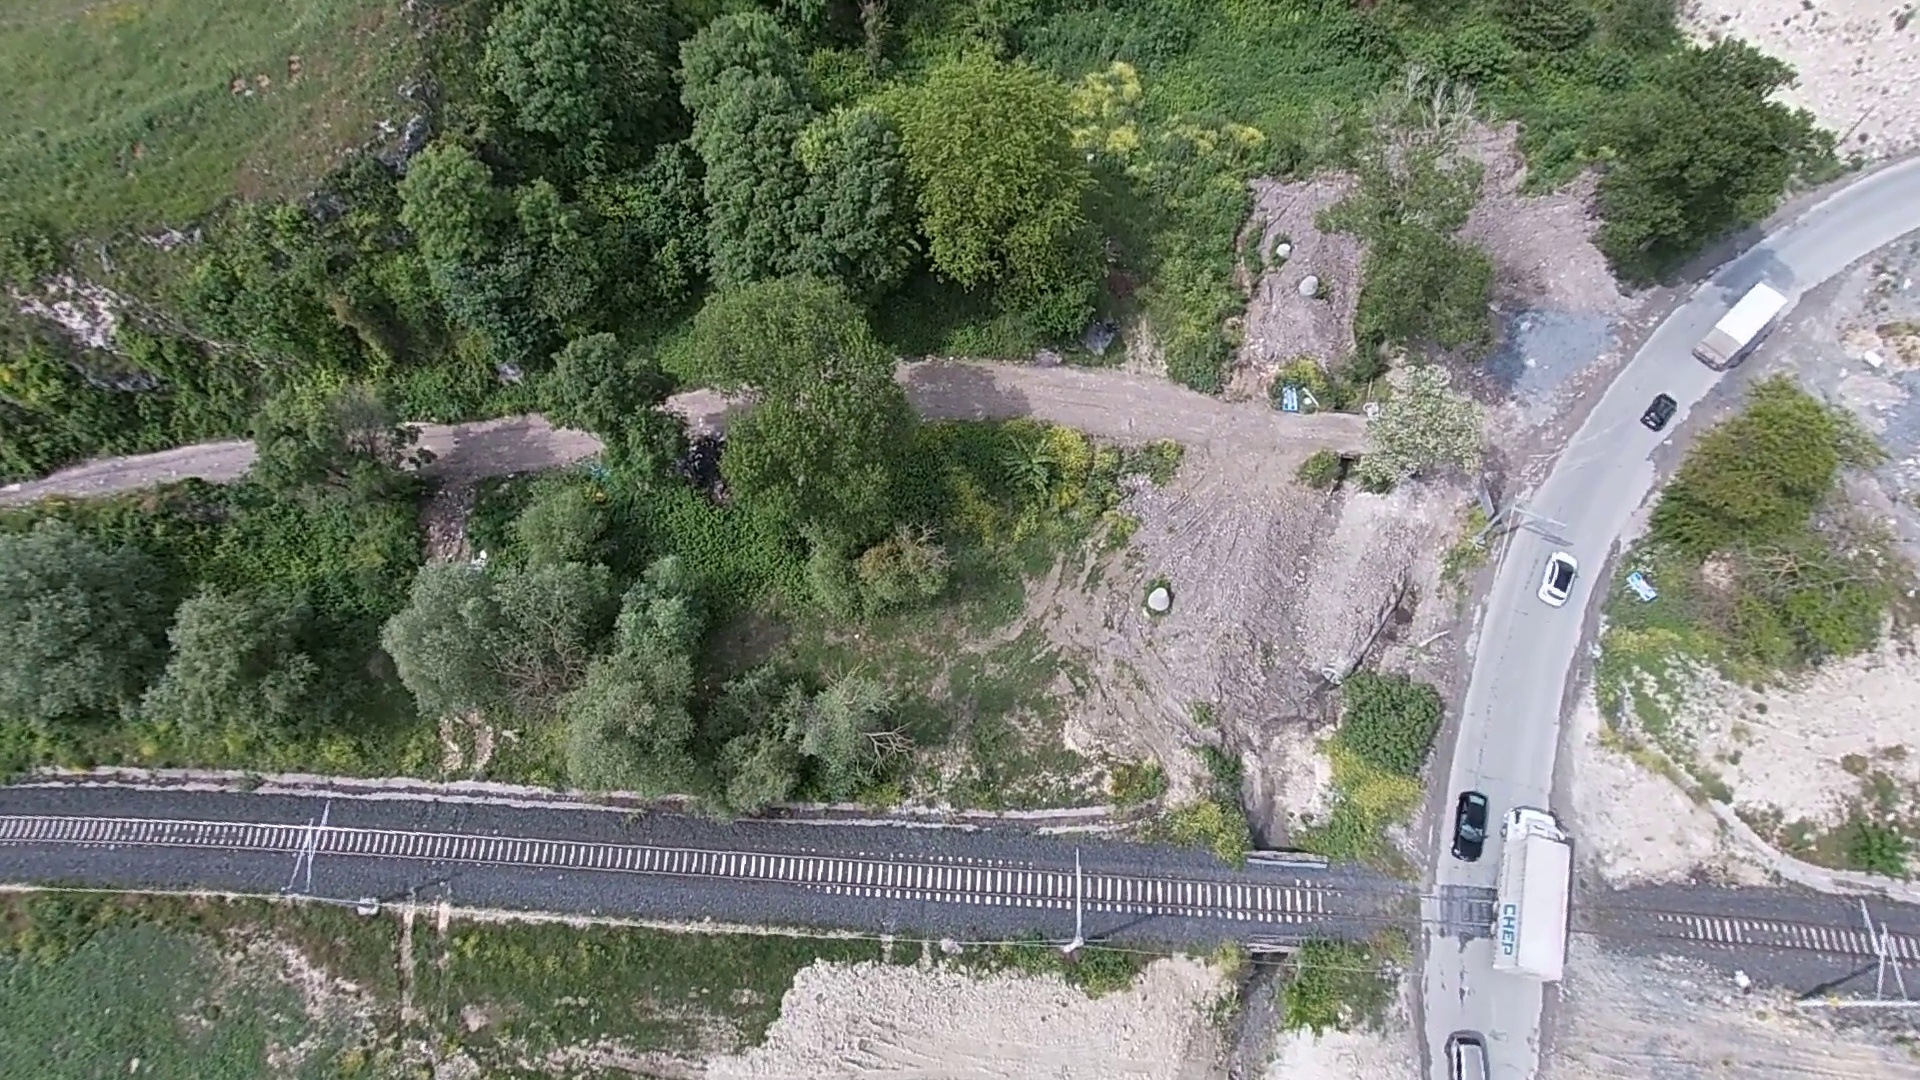araba: (1441, 789, 1498, 864), (1441, 1025, 1494, 1080), (1633, 384, 1683, 438), (1542, 541, 1582, 607)
kamyon: (1485, 793, 1585, 984), (1696, 277, 1797, 377)
